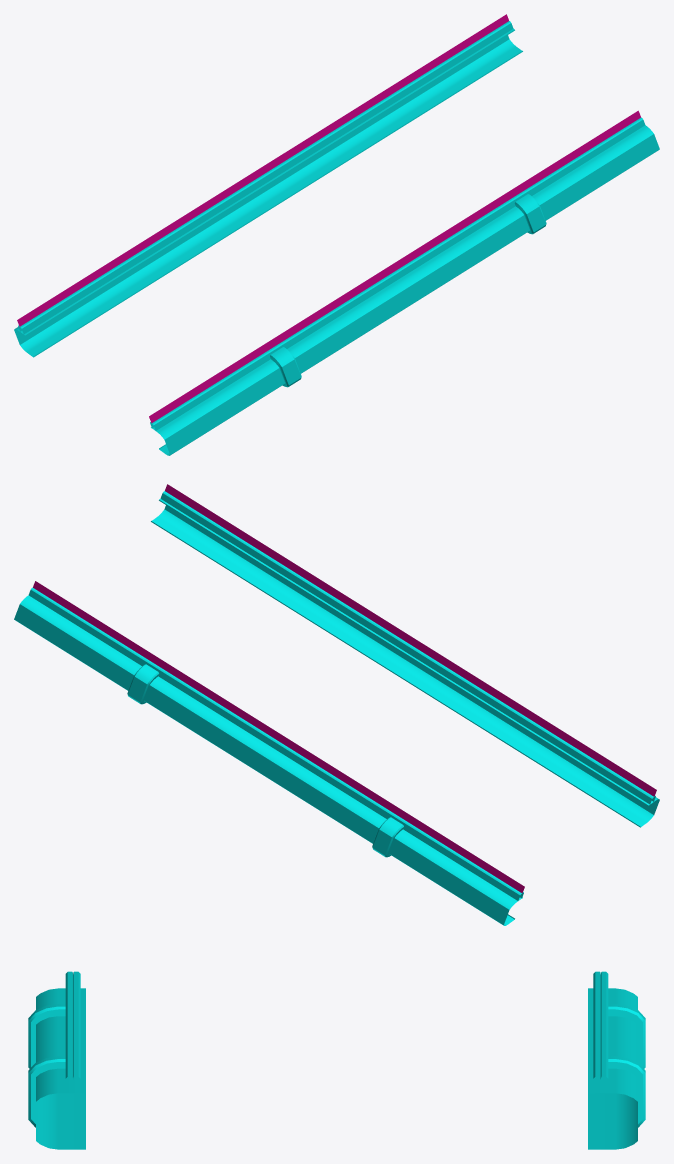
The model's file is Mur_D_20.fbx.
The picture shows the model from 3 angles, top to bottom: view 1: azimuth 30°, elevation 25°; view 2: azimuth 150°, elevation 25°; view 3: azimuth 270°, elevation 25°; orthographic projection. The views are drawn at different scales.
Parts seen in each view (by area): view 1: polySurface886; view 2: polySurface886; view 3: polySurface886.
Boxes of the visible parts, left/top/right/bottom form: polySurface886: left=14, top=14, right=659, bottom=455; polySurface886: left=14, top=484, right=659, bottom=925; polySurface886: left=28, top=971, right=645, bottom=1149.
Bounding box in the file's own units: 28.96 × 12.39 × 15.38.
